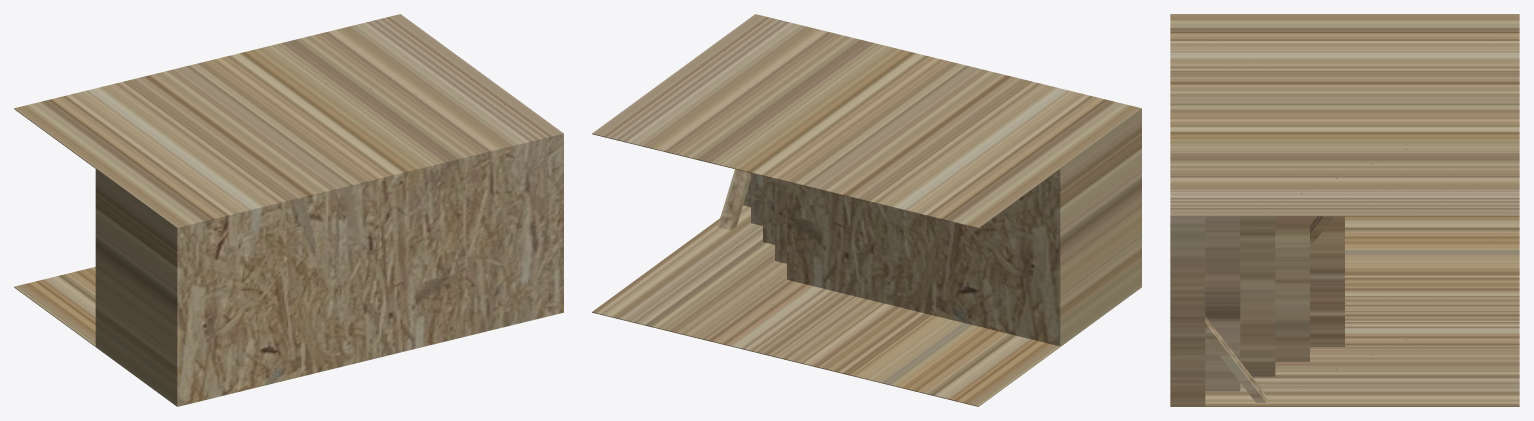
The model's file is Stairs_45deg_2deb.dae.
3 views of the same model, side by side, from view 1: azimuth 30°, elevation 25°; view 2: azimuth 150°, elevation 25°; view 3: azimuth 270°, elevation 25° (orthographic). The views are drawn at different scales.
Visible parts, largest first — view 1: Stairs 45deg 2deb; view 2: Stairs 45deg 2deb; view 3: Stairs 45deg 2deb.
Part boxes in pixels (bbox=[...]): Stairs 45deg 2deb: bbox=[14, 14, 563, 406]; Stairs 45deg 2deb: bbox=[592, 14, 1141, 406]; Stairs 45deg 2deb: bbox=[1170, 14, 1519, 406].
Size of the model in its own units: 273 by 200 by 121.
Materials: 1 (1 with a texture image).
